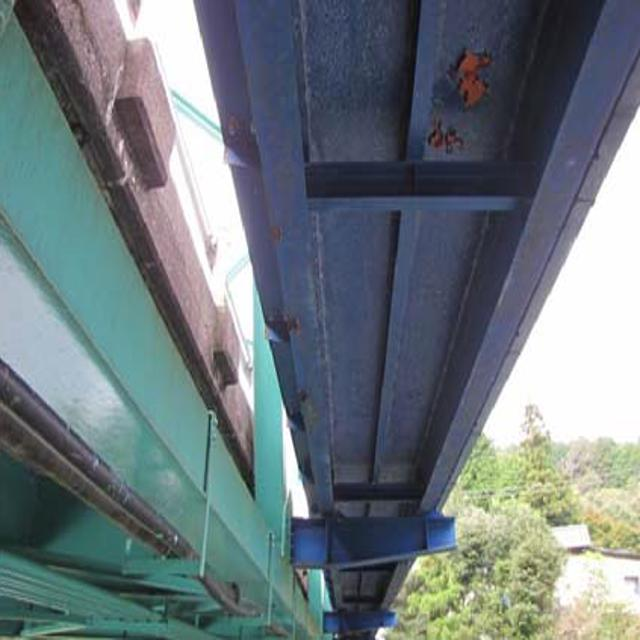corrosion: (424, 41, 512, 160)
